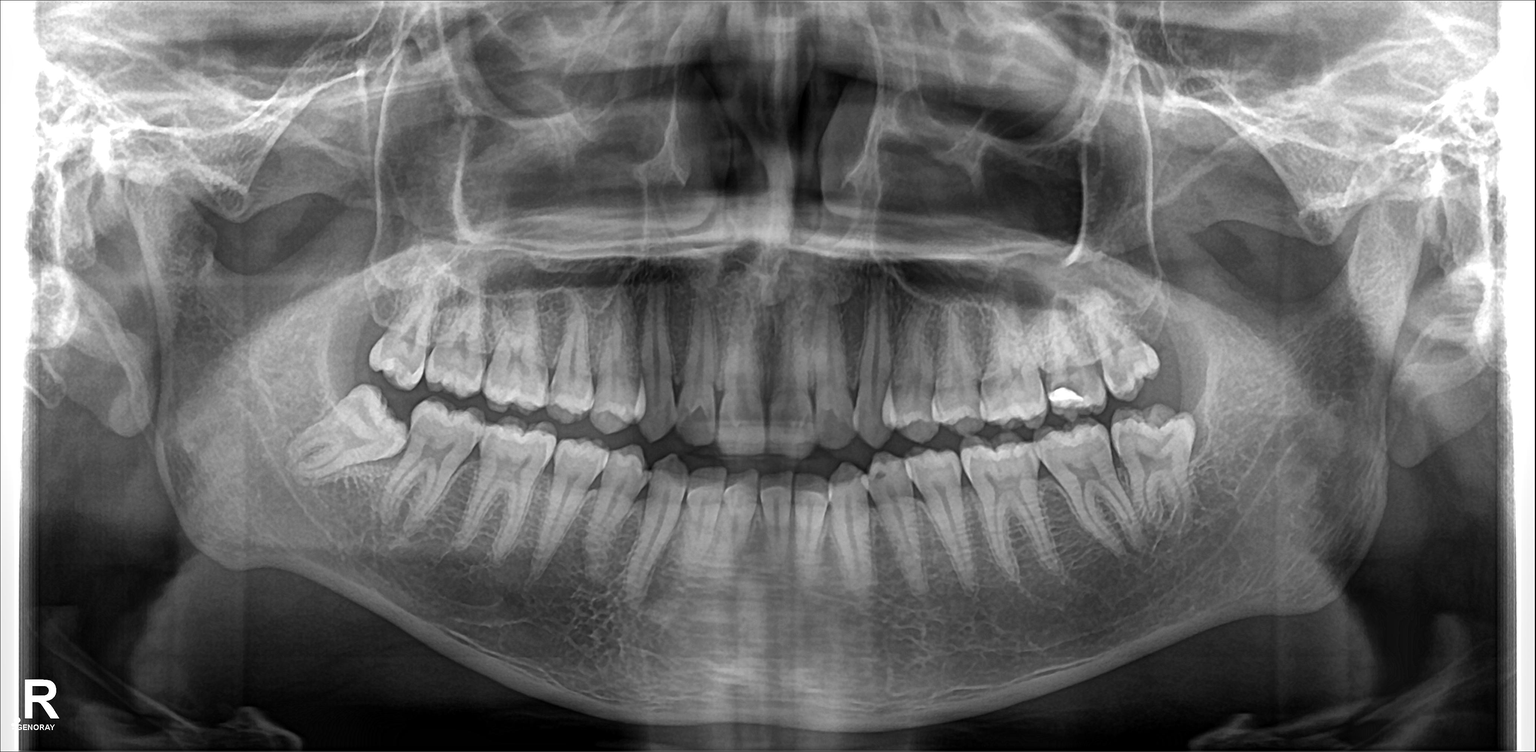Impacted Third Molar: (298, 389, 401, 471)
